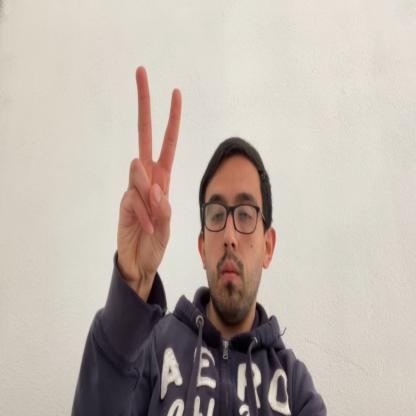V: (118, 61, 183, 280)
